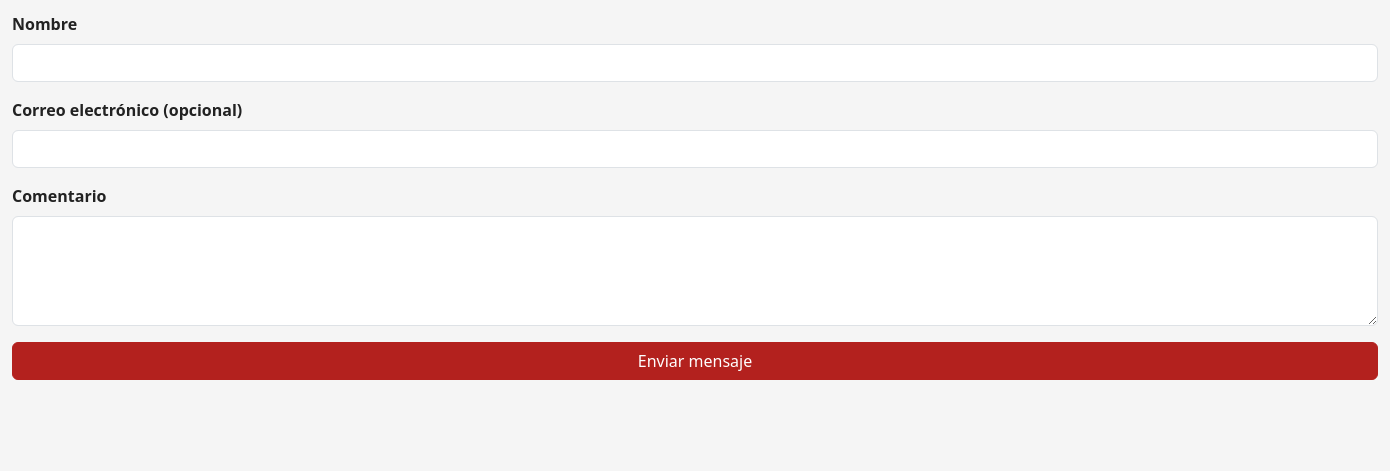
it: FormContacto › 28. con datos válidos muestra la confirmación y limpia el formulario
Type "Ana" into the field labelled "Nombre". click: (695,63)
box: top-left (12, 44), bottom-right (1378, 82)
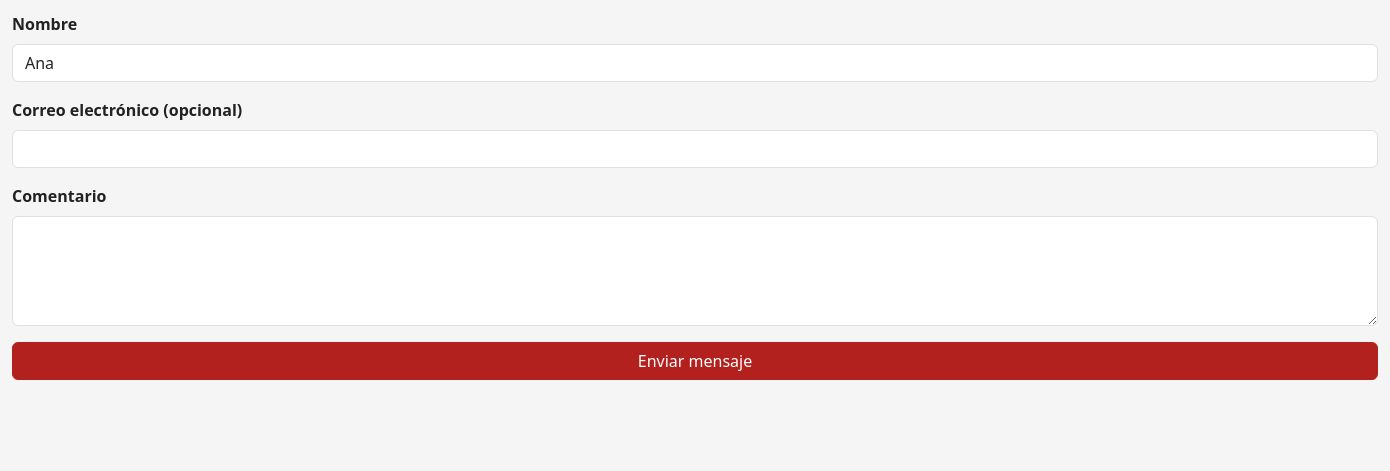
Type "Quiero cotizar frenos" into the text box labelled "Comentario". click: (695,271)
box: top-left (12, 216), bottom-right (1378, 326)
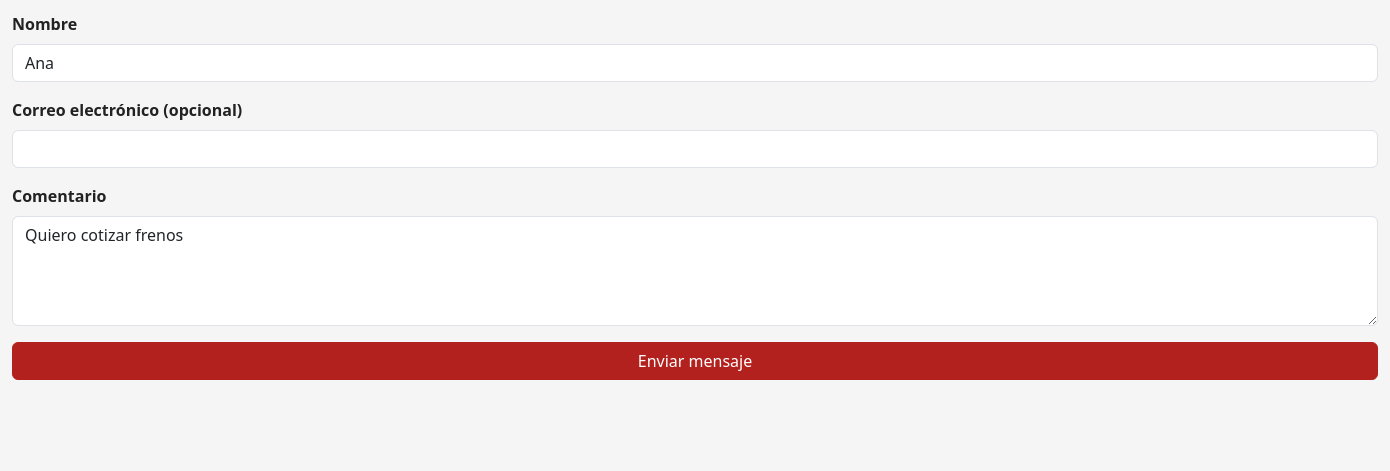
Click the button "Enviar mensaje". click: (695,361)
box: top-left (12, 342), bottom-right (1378, 380)
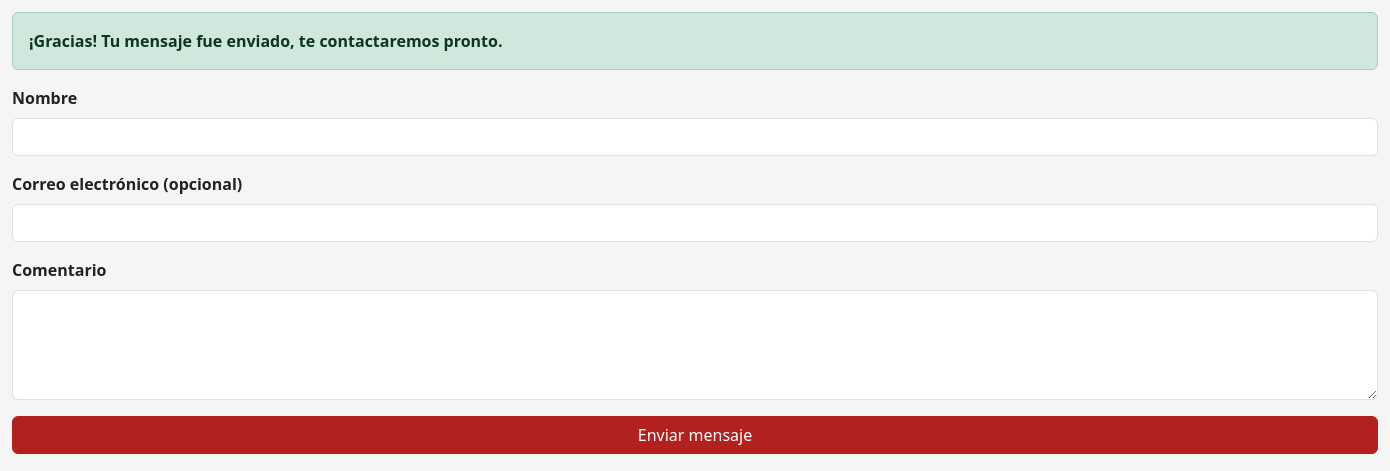
Check: the text "¡Gracias! Tu mensaje fue enviado, te contactaremos pronto." is shown, box top-left (29, 30), bottom-right (502, 52)
Check: the field labelled "Nombre" is empty, box top-left (12, 118), bottom-right (1378, 156)
